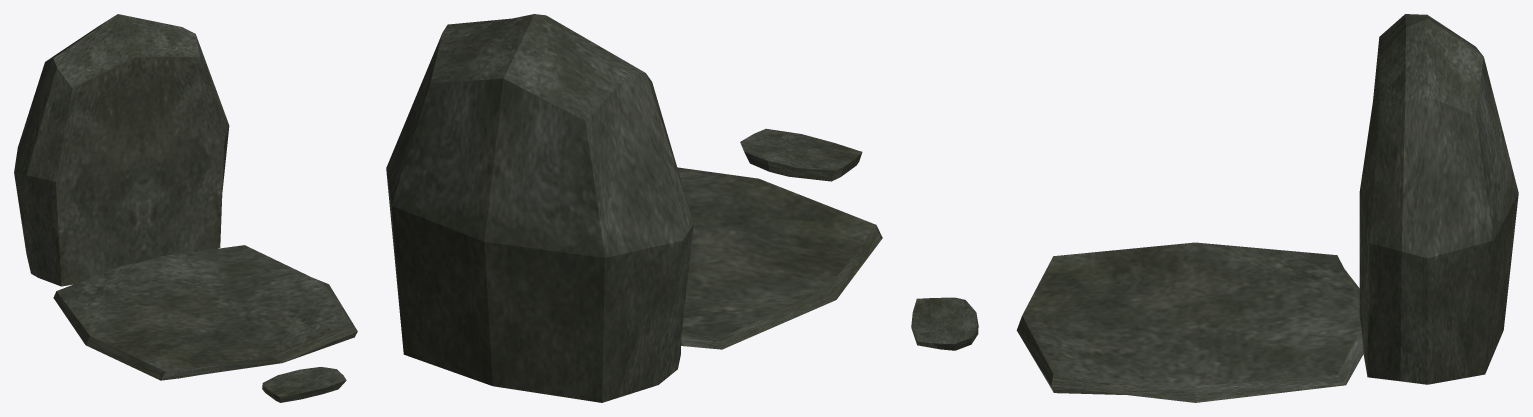
Rendered from stone1.glb.
3 views of the same model, side by side, from view 1: azimuth 30°, elevation 25°; view 2: azimuth 150°, elevation 25°; view 3: azimuth 270°, elevation 25° (orthographic). The views are drawn at different scales.
Parts seen in each view (by area): view 1: stone1, stone2, button; view 2: stone1, stone2, button; view 3: stone1, stone2, button.
Part boxes in pixels (<box>): stone1: <box>14,14,229,286</box>; stone2: <box>53,245,357,380</box>; button: <box>262,367,346,402</box>; stone1: <box>386,14,693,402</box>; stone2: <box>677,167,882,349</box>; button: <box>740,128,862,181</box>; stone1: <box>1359,14,1518,384</box>; stone2: <box>1016,242,1363,402</box>; button: <box>911,297,978,350</box>.
Bounding box in the file's own units: 1.49 × 1.43 × 2.46.
Materials: 1 (1 with a texture image).
